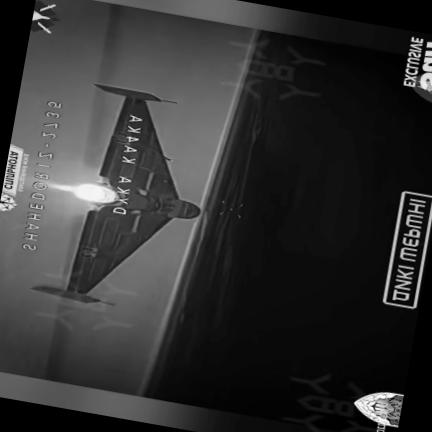Shahed: (32, 83, 200, 303)
